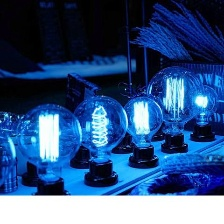light_bulb: (13, 101, 83, 186), (145, 63, 208, 145), (71, 93, 130, 168), (119, 95, 168, 151), (182, 81, 222, 144)
